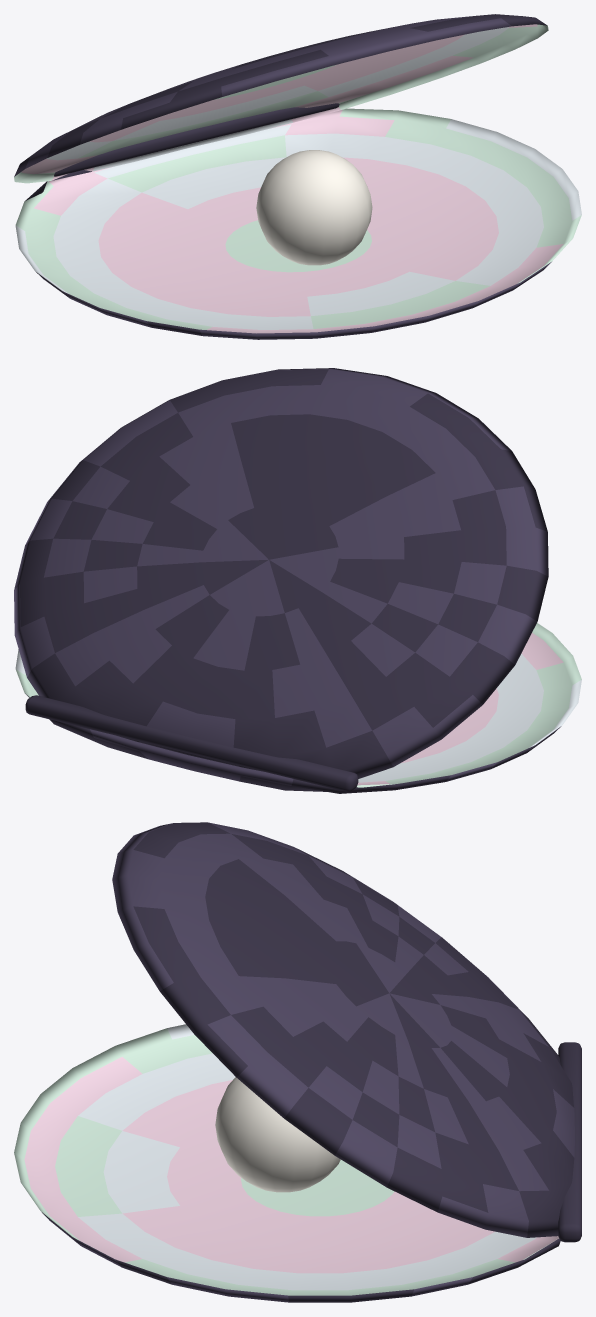
File: sea-pearl-oyster.glb
3 views of the same model, one above another, from view 1: azimuth 30°, elevation 25°; view 2: azimuth 150°, elevation 25°; view 3: azimuth 270°, elevation 25° (orthographic). The views are drawn at different scales.
Parts seen in each view (by area): view 1: pearl; view 2: pearl; view 3: pearl.
Boxes of the visible parts, <box> form: pearl: <box>14,14,581,339</box>; pearl: <box>14,368,581,793</box>; pearl: <box>14,822,581,1302</box>.
Size of the model in its own units: 0.2387 by 0.1261 by 0.2004.
